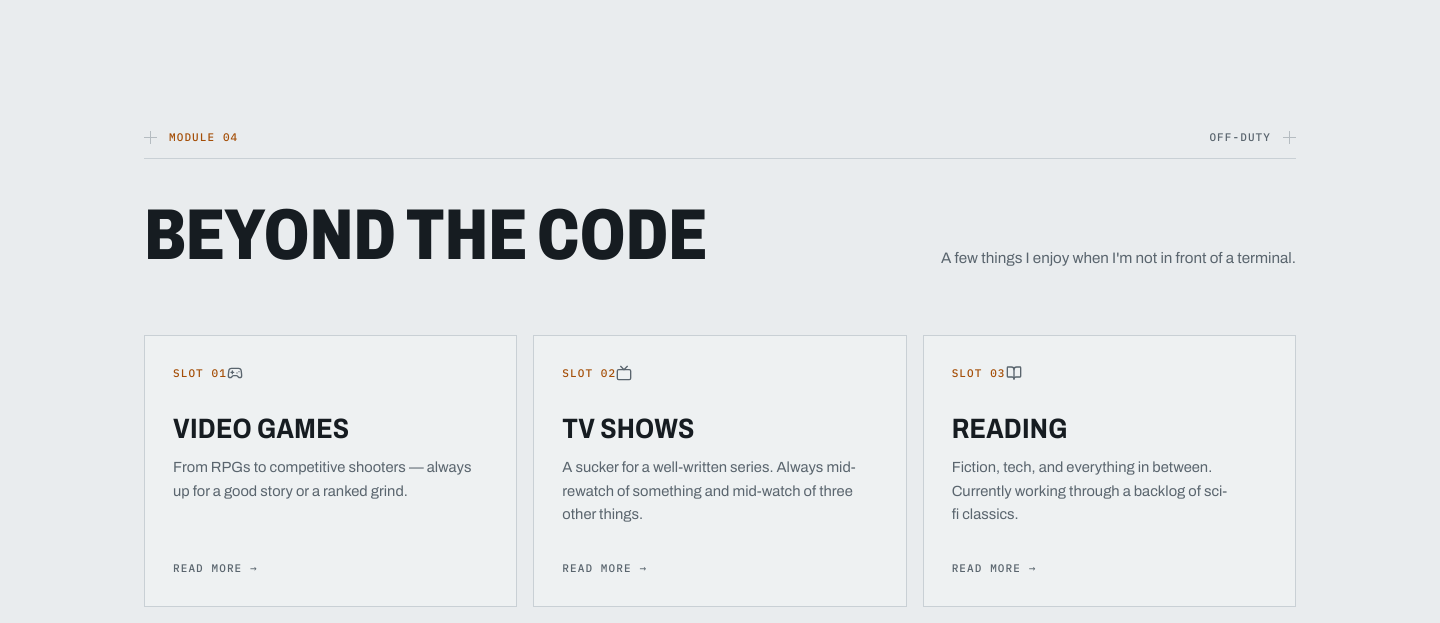
Hobbies – detail view › hides the grid cards when a detail is open
Click the button "Reading": (1109, 471) [923,335,1296,606]
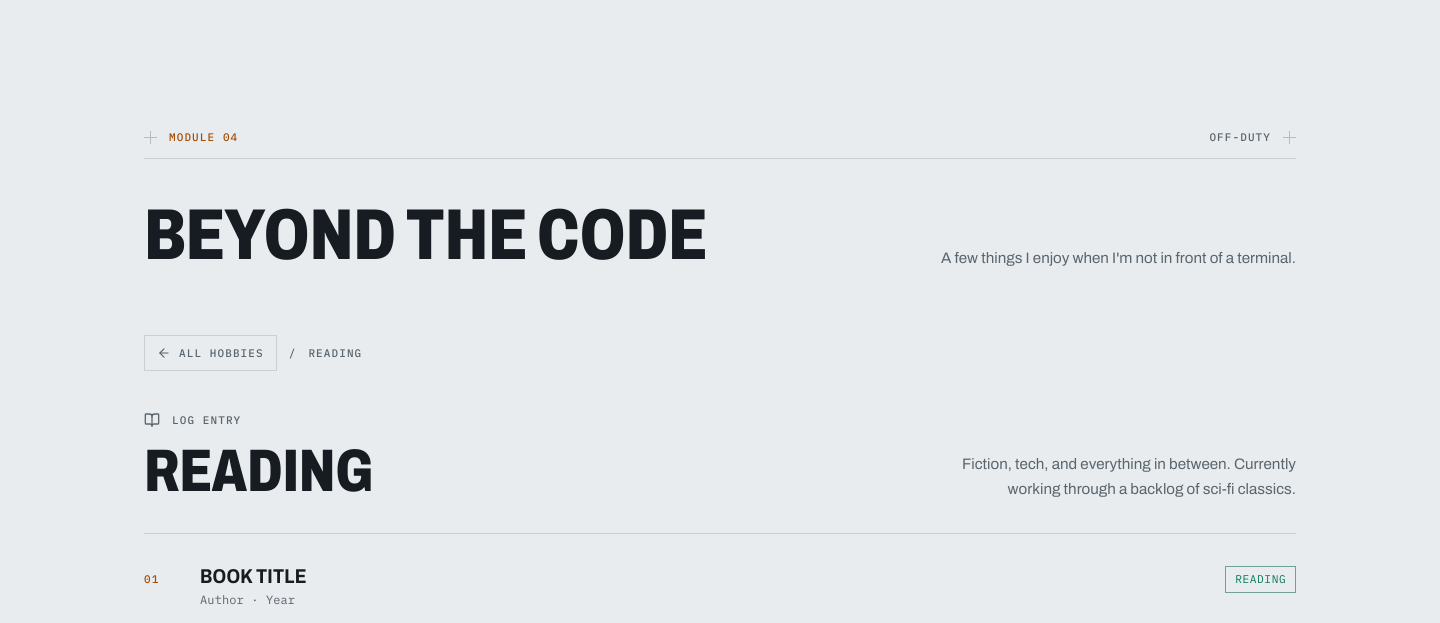
Check: the button "Video Games" is gone
Check: the button "TV Shows" is gone
